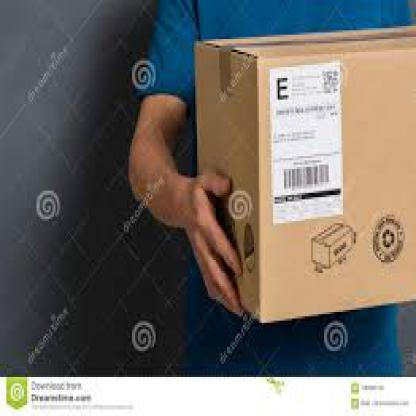paquete: (182, 33, 414, 327)
